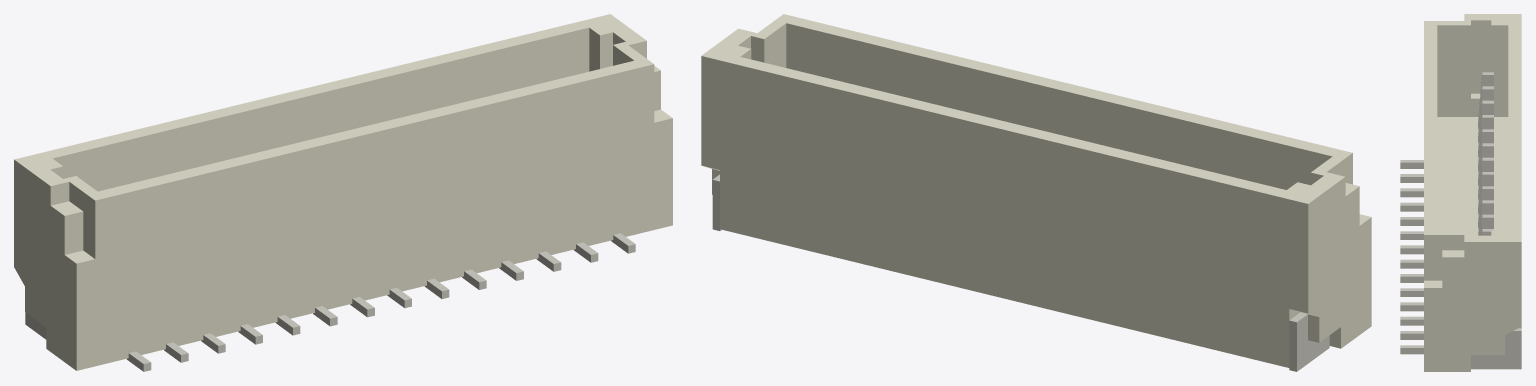
The model's file is kc-jst_sh_bm14b-srss-tb_1x14-1mp_p1.00mm_vertical.glb.
The picture shows the model from 3 angles, left to right: view 1: azimuth 30°, elevation 25°; view 2: azimuth 150°, elevation 25°; view 3: azimuth 270°, elevation 25°; orthographic projection. The views are drawn at different scales.
Parts seen in each view (by area): view 1: 0.75_0.75_0.6666666666666666_0, 0.6666666666666666_0.6666666666666666_0.5833333333333334_0.8; view 2: 0.75_0.75_0.6666666666666666_0, 0.6666666666666666_0.6666666666666666_0.5833333333333334_0.8; view 3: 0.75_0.75_0.6666666666666666_0, 0.6666666666666666_0.6666666666666666_0.5833333333333334_0.8.
Boxes of the visible parts, x1,y1,x2,y2 form: 0.75_0.75_0.6666666666666666_0: [14, 14, 672, 370]; 0.6666666666666666_0.6666666666666666_0.5833333333333334_0.8: [25, 233, 635, 371]; 0.75_0.75_0.6666666666666666_0: [701, 14, 1371, 367]; 0.6666666666666666_0.6666666666666666_0.5833333333333334_0.8: [712, 174, 1329, 371]; 0.75_0.75_0.6666666666666666_0: [1424, 14, 1521, 371]; 0.6666666666666666_0.6666666666666666_0.5833333333333334_0.8: [1400, 72, 1521, 369].
Size of the model in its own units: 1.6 by 0.432 by 0.36.
